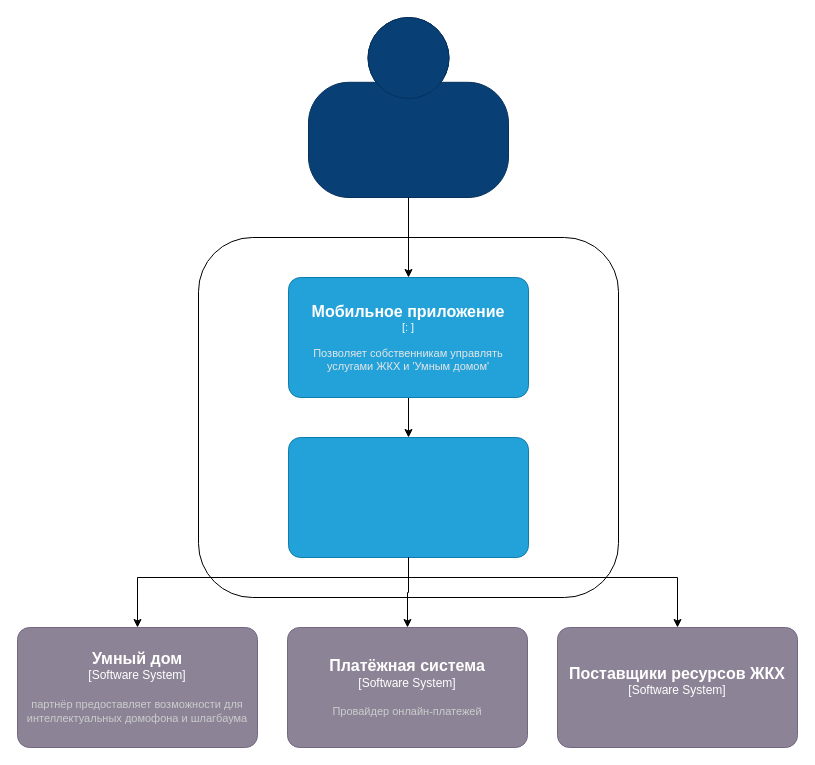
Image size: 815x765. Some labels were removed from this diagram. The centre of each missing label's shape, as x and y in pixels:
"Сервисы компании [: ] Обрабатывает запросы мобильного приложения и интеграции" goes at point 408,497.
"Собственник [Person] Клиент" goes at point 408,107.
